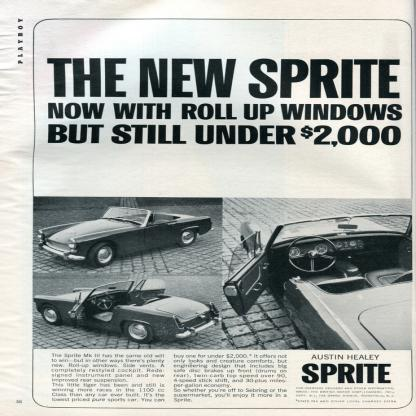car: (34, 277, 222, 346), (36, 202, 214, 268)
